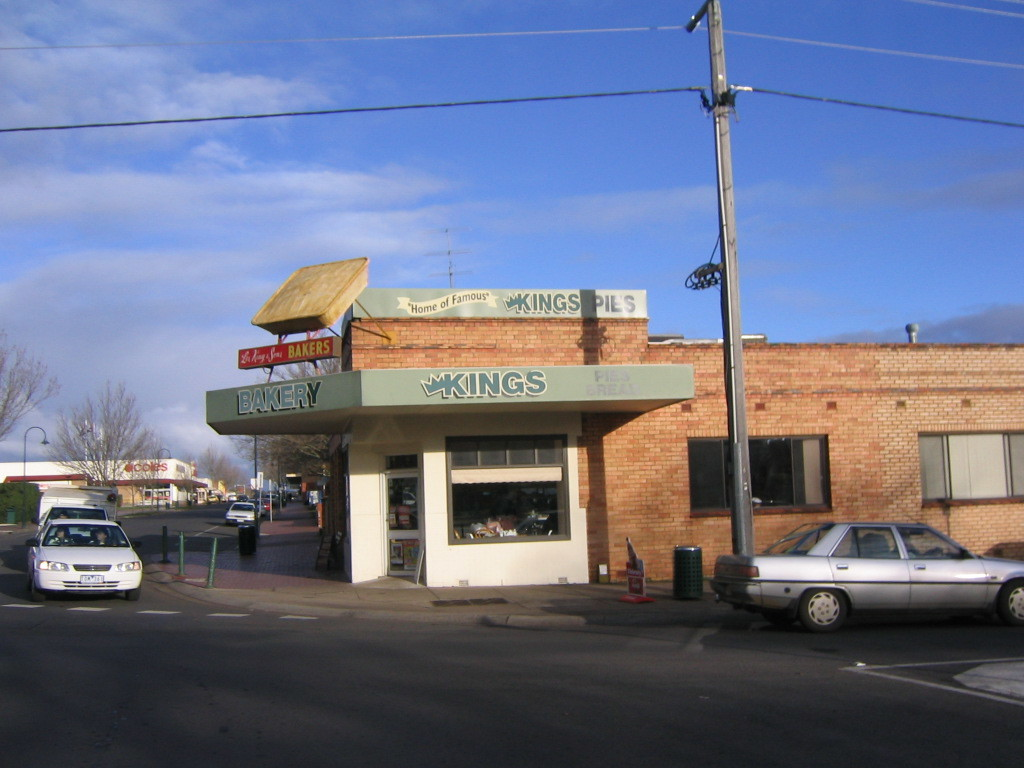cars: (708, 517, 1022, 629), (26, 510, 147, 598), (223, 499, 263, 522)
